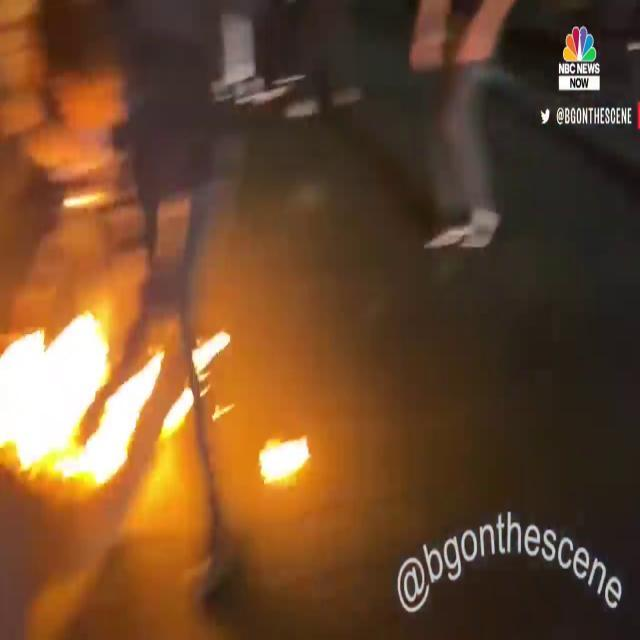Fire: (0, 292, 216, 494), (253, 422, 318, 500)
Smoke: (0, 0, 583, 347)
